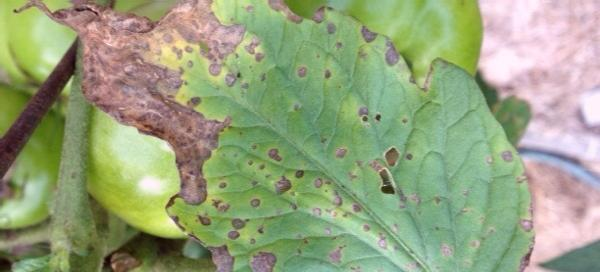Tomato Septoria leaf spot: (32, 0, 545, 268)
